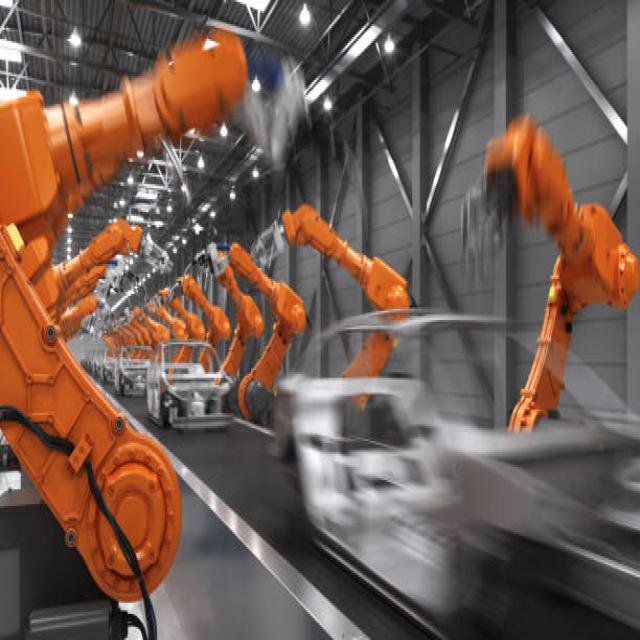Robotic-arm: (0, 28, 247, 640), (460, 112, 640, 435), (278, 181, 417, 398), (41, 214, 138, 335), (232, 236, 298, 412), (197, 242, 253, 374)
